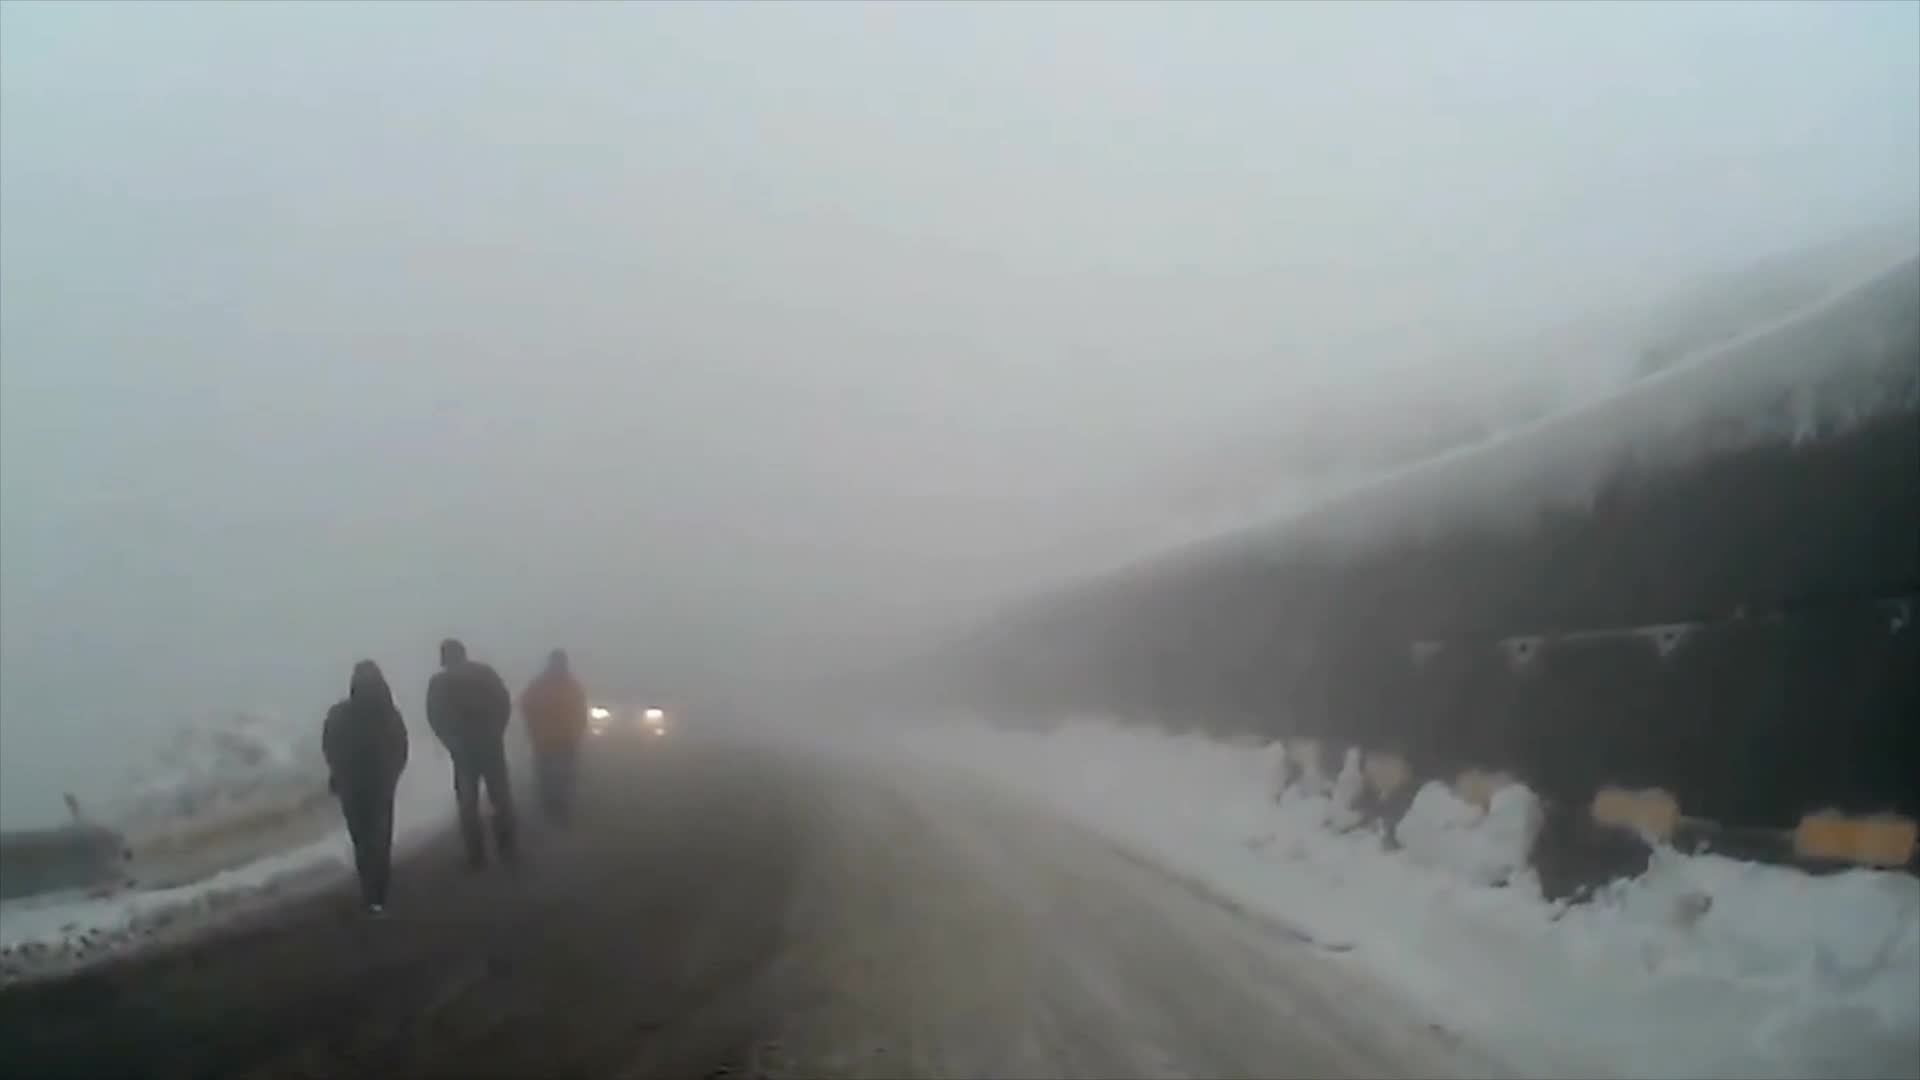pedestrian: (327, 656, 414, 908), (424, 640, 514, 869), (521, 650, 589, 831)
vehicle: (580, 679, 674, 761)
